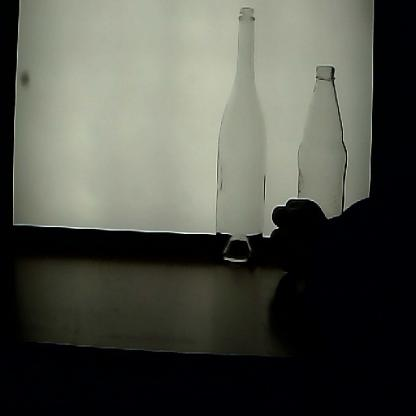Can: (212, 7, 270, 275), (296, 58, 348, 268)
